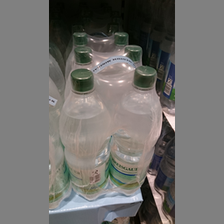water: (107, 65, 163, 197), (58, 68, 110, 203)
